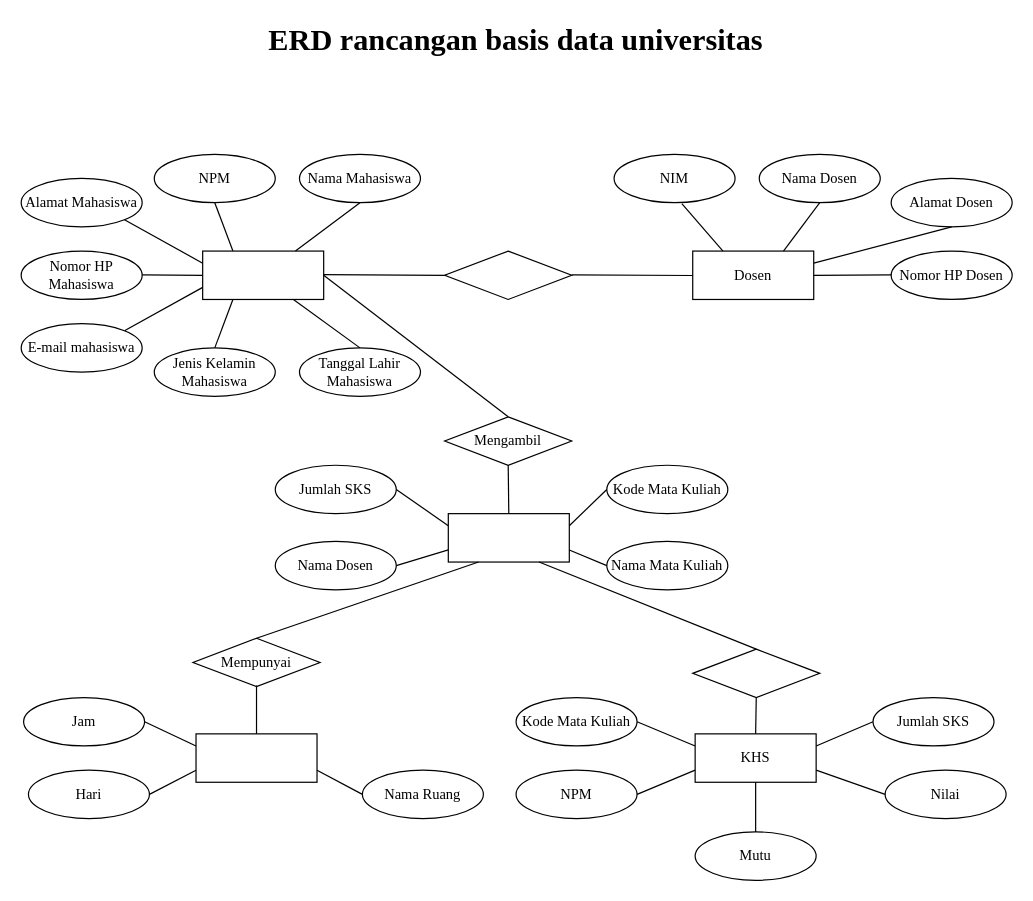
The diagram is 1033 pixels wide and 901 high, and some of its shapes have lost their labels. The centre of each missing label's shape, as x and y in pixels:
Dibimbing: the point at 507,274
Jadwal: the point at 256,757
Mahasiswa: the point at 262,274
Mata Kuliah: the point at 508,537
Menghasilkan: the point at 756,673
